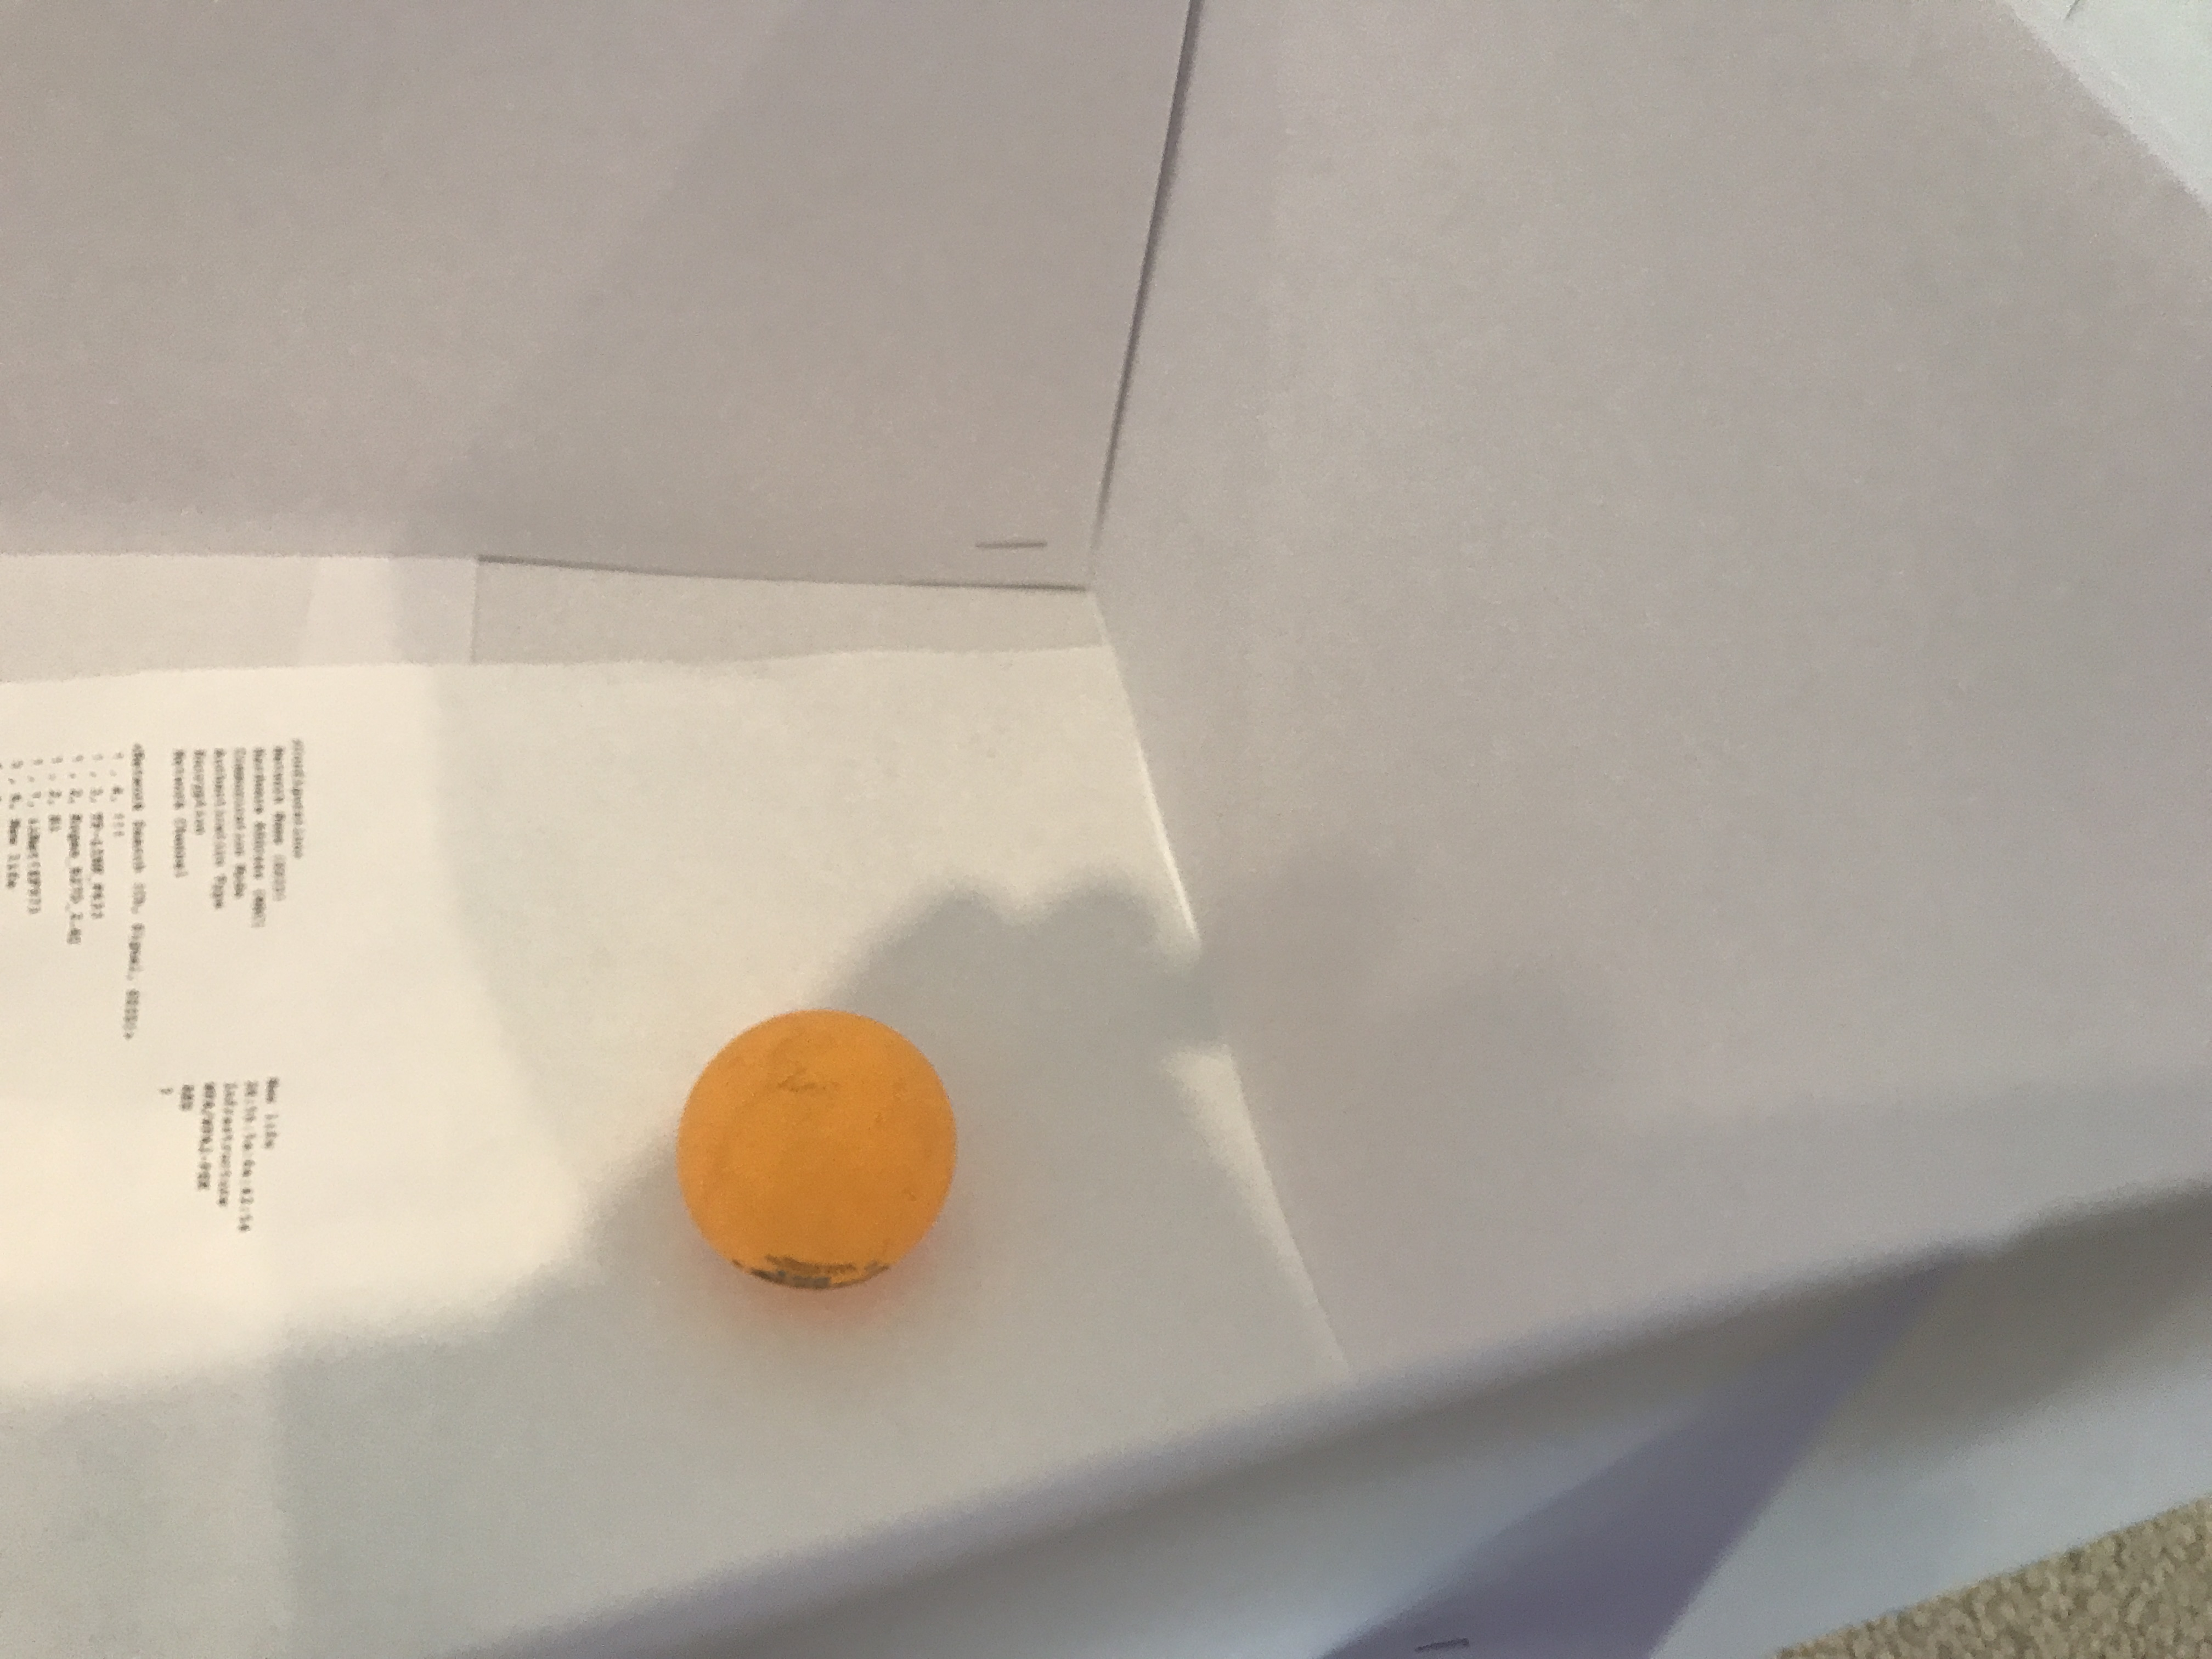pp: (678, 1007, 963, 1305)
